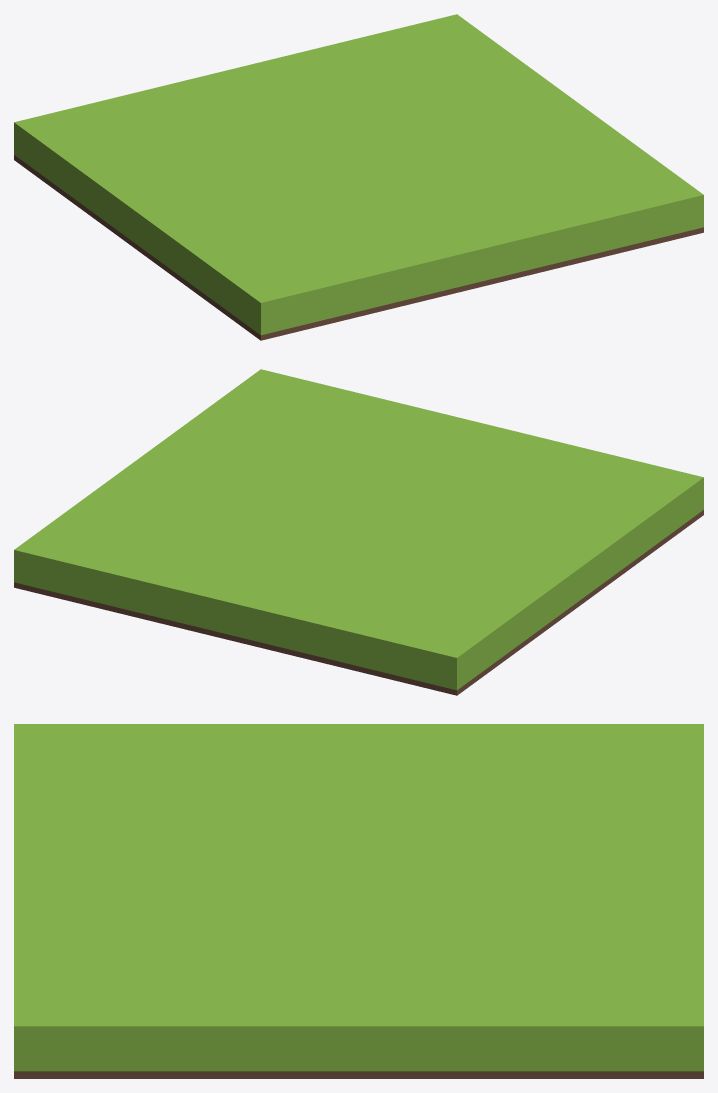
Rendered from land.glb.
3 renders of one model, top to bottom at view 1: azimuth 30°, elevation 25°; view 2: azimuth 150°, elevation 25°; view 3: azimuth 270°, elevation 25°, orthographic. The views are drawn at different scales.
Parts seen in each view (by area): view 1: part_1_mesh833803046, part_2_mesh833803046_1; view 2: part_1_mesh833803046, part_2_mesh833803046_1; view 3: part_1_mesh833803046, part_2_mesh833803046_1.
Part boxes in pixels (x1,y1,x2,y2): part_1_mesh833803046: (14,14,703,335); part_2_mesh833803046_1: (14,155,703,340); part_1_mesh833803046: (14,369,703,690); part_2_mesh833803046_1: (14,510,703,695); part_1_mesh833803046: (14,724,703,1071); part_2_mesh833803046_1: (14,1071,703,1078).
Size of the model in its own units: 0.86 by 0.07 by 0.83.
